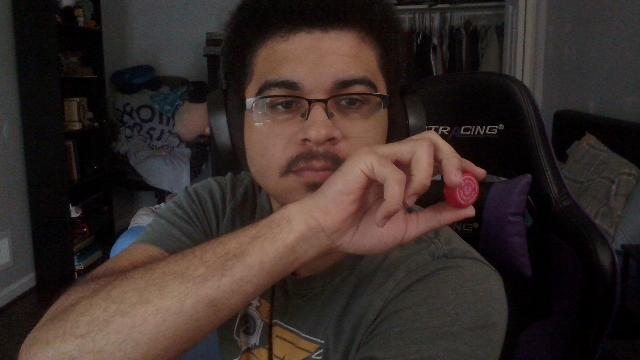cap: (445, 172, 479, 208)
